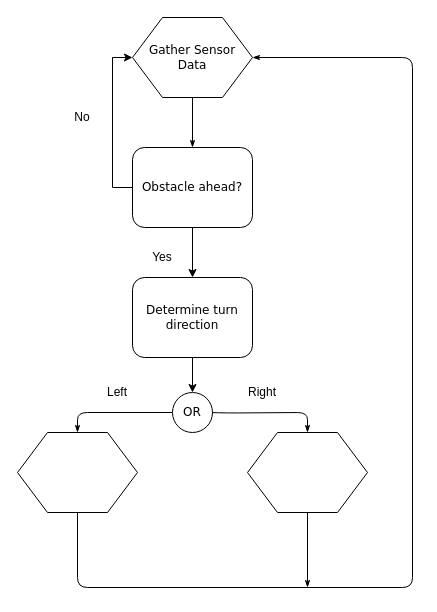
Image size: 437x612. Some labels were removed from this diagram. Here are the shapes that lost their labels. From the top down, the centre of each, then its label:
At (x=77, y=472): "Turn Left".
At (x=307, y=472): "Turn Right".
